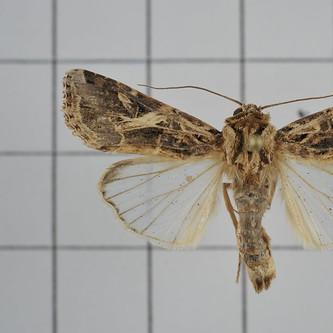Spodoptera litura: (62, 68, 333, 296)
